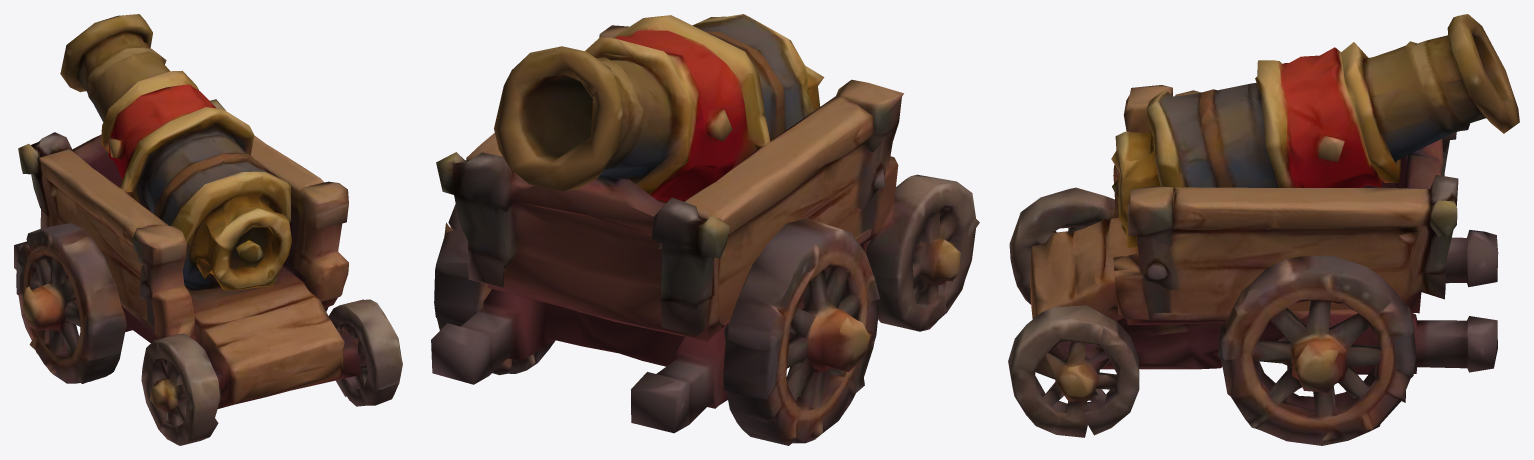
The model's file is minion_siege_red.glb.
3 renders of one model, left to right at view 1: azimuth 30°, elevation 25°; view 2: azimuth 150°, elevation 25°; view 3: azimuth 270°, elevation 25°, orthographic. The views are drawn at different scales.
Visible parts, largest first — view 1: tripo_node_b510771d-c70a-4c4d-b9c3-a892eb5c9d1a; view 2: tripo_node_b510771d-c70a-4c4d-b9c3-a892eb5c9d1a; view 3: tripo_node_b510771d-c70a-4c4d-b9c3-a892eb5c9d1a.
Boxes of the visible parts, left/top/right/bottom form: tripo_node_b510771d-c70a-4c4d-b9c3-a892eb5c9d1a: left=14, top=14, right=402, bottom=445; tripo_node_b510771d-c70a-4c4d-b9c3-a892eb5c9d1a: left=431, top=14, right=979, bottom=445; tripo_node_b510771d-c70a-4c4d-b9c3-a892eb5c9d1a: left=1008, top=14, right=1519, bottom=445.
Bounding box in the file's own units: 0.8098 × 0.7689 × 1.
1 material, 1 textured.
